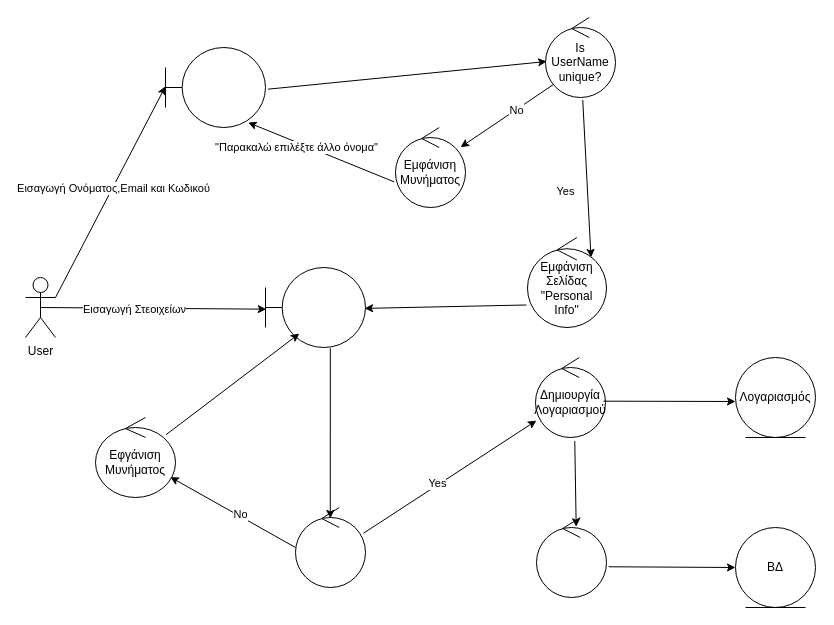
Image size: 834x625. Some labels were removed from this diagram. The box of each missing label's shape, as (x1, y1, x2, y2) in pixels:
Login Page: (164, 46, 266, 128)
Αll fields Ok?: (294, 506, 366, 588)
Αποθηκ. Λογαρ. Στην ΒΔ: (536, 516, 606, 598)
Σελίδα "Personal Info": (264, 266, 366, 348)
